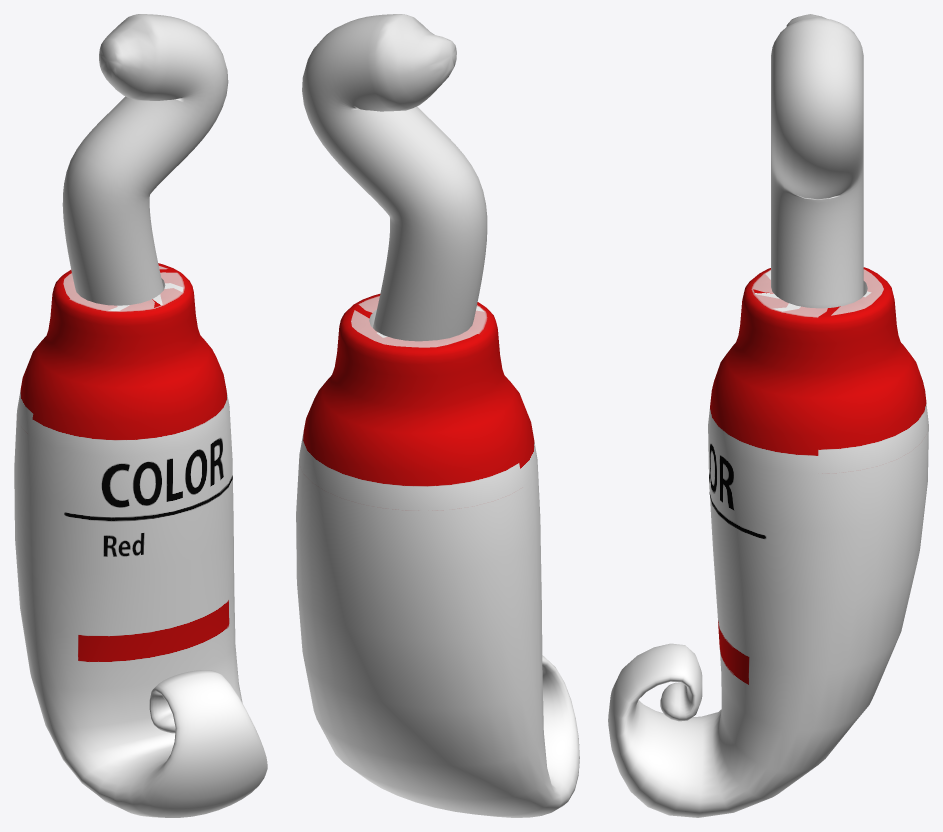
Rendered from paint_act.FBX.
3 renders of one model, left to right at view 1: azimuth 30°, elevation 25°; view 2: azimuth 150°, elevation 25°; view 3: azimuth 270°, elevation 25°, orthographic. The views are drawn at different scales.
Parts seen in each view (by area): view 1: Cylinder002, Line001; view 2: Cylinder002, Line001; view 3: Cylinder002, Line001.
Boxes of the visible parts, left/top/right/bottom form: Cylinder002: left=14, top=263, right=267, bottom=817; Line001: left=62, top=14, right=228, bottom=305; Cylinder002: left=296, top=294, right=579, bottom=817; Line001: left=302, top=14, right=487, bottom=341; Cylinder002: left=608, top=267, right=928, bottom=817; Line001: left=771, top=14, right=863, bottom=308.
Bounding box in the file's own units: 17.72 × 63.38 × 23.35.
